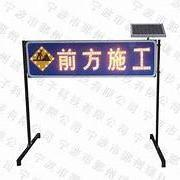sign: (25, 41, 160, 77)
